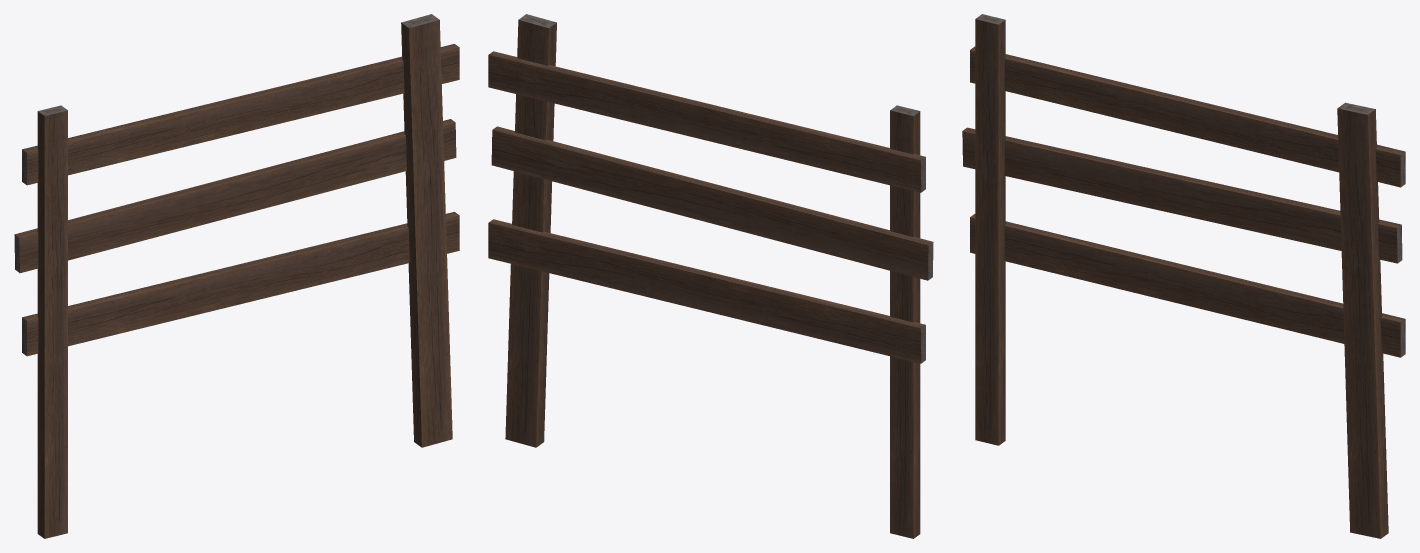
The model's file is fence07a_0t.fbx.
3 renders of one model, left to right at view 1: azimuth 30°, elevation 25°; view 2: azimuth 150°, elevation 25°; view 3: azimuth 330°, elevation 25°, orthographic.
Visible parts, largest first — view 1: fence07a_0t; view 2: fence07a_0t; view 3: fence07a_0t.
Boxes of the visible parts, <box> form: fence07a_0t: <box>14,14,459,538</box>; fence07a_0t: <box>488,14,933,538</box>; fence07a_0t: <box>962,14,1405,538</box>.
Size of the model in its own units: 124 by 114 by 5.6.
